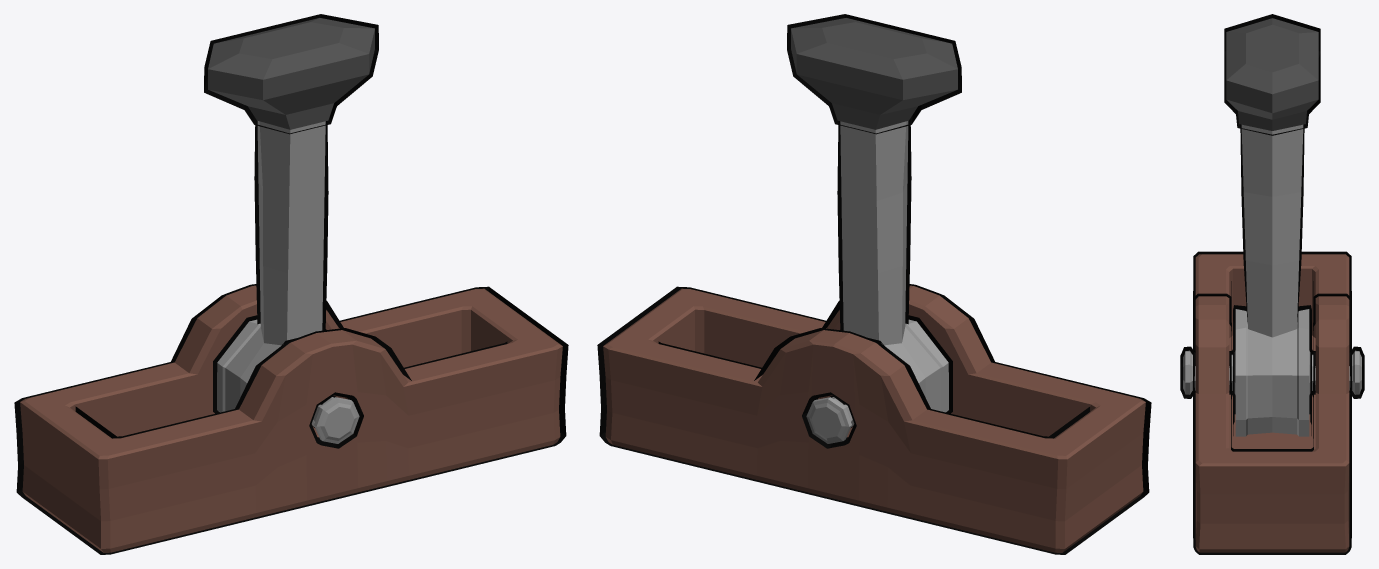
Rendered from lever.fbx.
3 renders of one model, left to right at view 1: azimuth 30°, elevation 25°; view 2: azimuth 150°, elevation 25°; view 3: azimuth 270°, elevation 25°, orthographic. The views are drawn at different scales.
Parts seen in each view (by area): view 1: lever_base, lever_handle, lever_base_outline, lever_handle_outline; view 2: lever_base, lever_handle, lever_base_outline, lever_handle_outline; view 3: lever_base, lever_handle, lever_base_outline, lever_handle_outline.
Part boxes in pixels (x1,y1,x2,y2): lever_base: (20,285,562,552); lever_handle: (208,18,374,443); lever_base_outline: (14,284,568,554); lever_handle_outline: (204,14,378,448); lever_base: (603,285,1145,552); lever_handle: (791,18,957,443); lever_base_outline: (597,284,1151,554); lever_handle_outline: (787,14,961,448); lever_base: (1195,254,1349,552); lever_handle: (1183,18,1361,436); lever_base_outline: (1193,251,1351,554); lever_handle_outline: (1180,14,1364,435).
Bounding box in the file's own units: 153 × 134 × 55.18.
